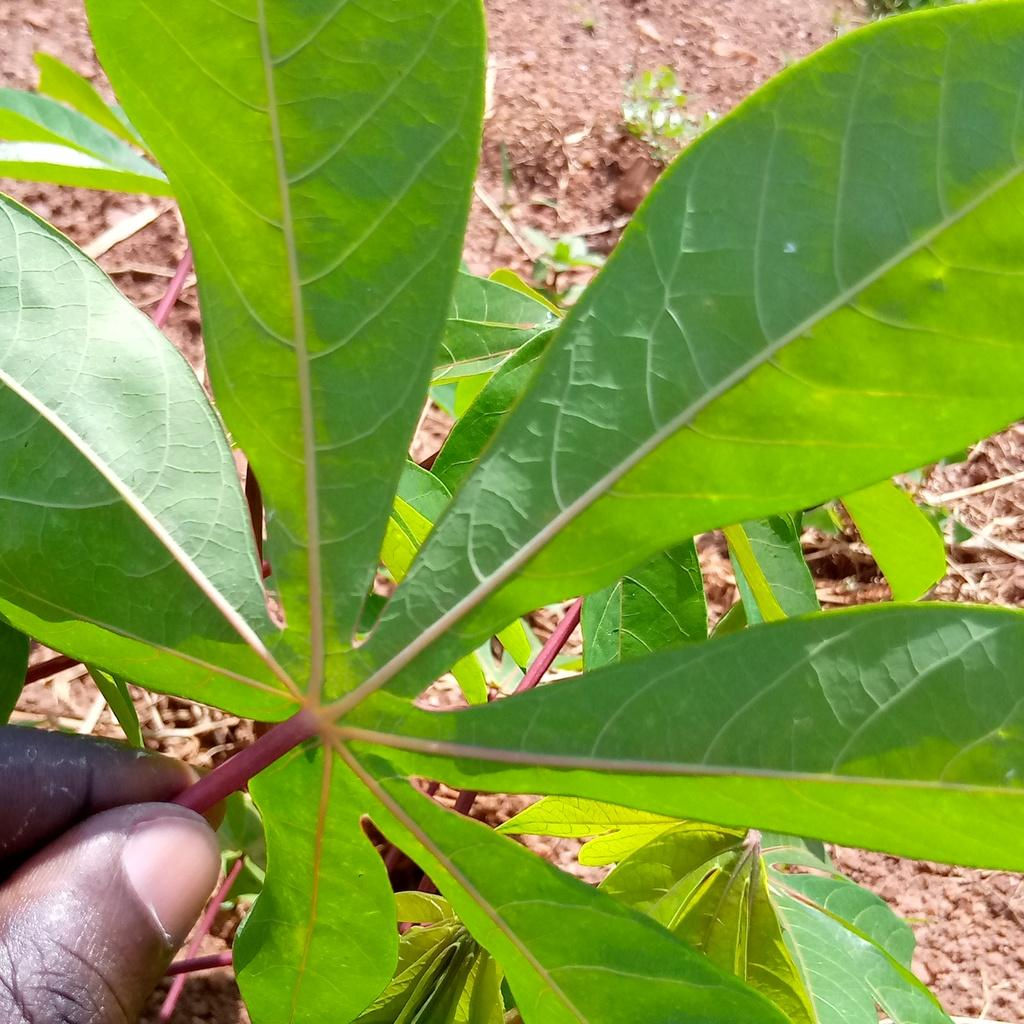adult: (783, 242, 796, 254)
